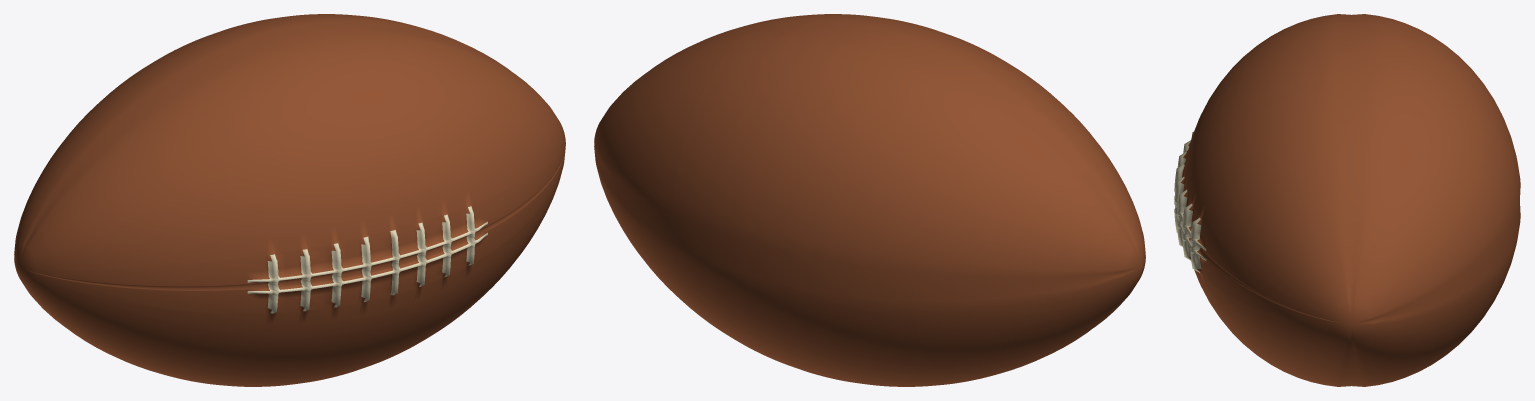
File: A-NEW-20261027-FOOTBALL-001_LOD0_R2.fbx
3 renders of one model, left to right at view 1: azimuth 30°, elevation 25°; view 2: azimuth 150°, elevation 25°; view 3: azimuth 270°, elevation 25°, orthographic. The views are drawn at different scales.
Parts seen in each view (by area): view 1: continuous original football body seam and lacing; view 2: continuous original football body seam and lacing; view 3: continuous original football body seam and lacing.
Part boxes in pixels (x1,y1,x2,y2): continuous original football body seam and lacing: (14,14,565,386); continuous original football body seam and lacing: (594,14,1145,386); continuous original football body seam and lacing: (1174,14,1520,386).
Size of the model in its own units: 29 by 16.72 by 17.12.
